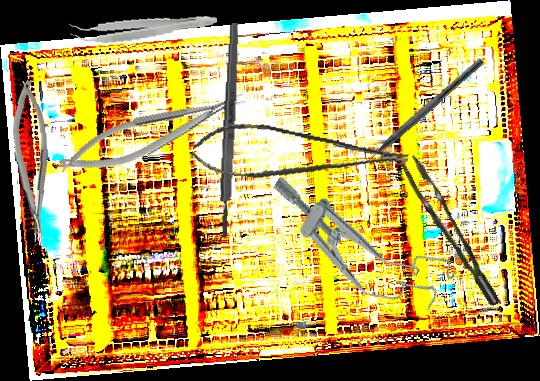Chopper: (351, 48, 486, 173)
Micro Scissor: (189, 113, 410, 205)
Needle Holder: (53, 83, 253, 184), (10, 79, 52, 244)
Scalpel Handle: (217, 22, 242, 238)
Speculum: (250, 162, 461, 330)
Tissue Forceps: (399, 147, 501, 317), (69, 5, 218, 48)
